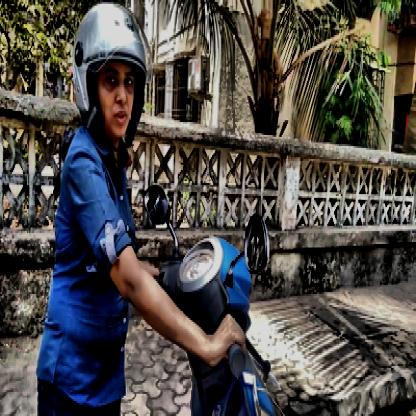wear: (76, 0, 144, 139)
